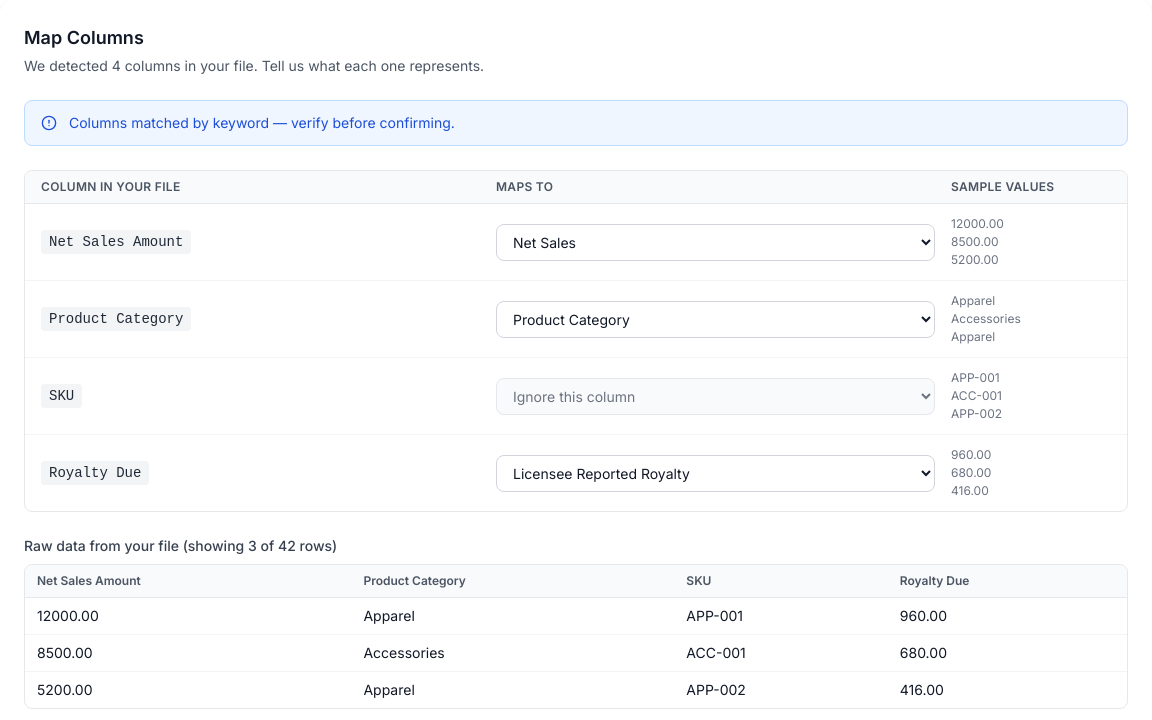
Test case: ColumnMapper component › deduplication: selecting a unique field on a 2nd column clears the 1st column
The image size is (1152, 720).
Expected: the dropdown named "Map column \"Net Sales Amount\" to Likha field" shows "Net Sales", [496, 224, 935, 260]
Note: Map SKU to net_sales — should clear Net Sales Amount back to ignore
Select "Net Sales" in the dropdown named "Map column \"SKU\" to Likha field". click: coordinates (716, 396)
box: [496, 378, 935, 414]
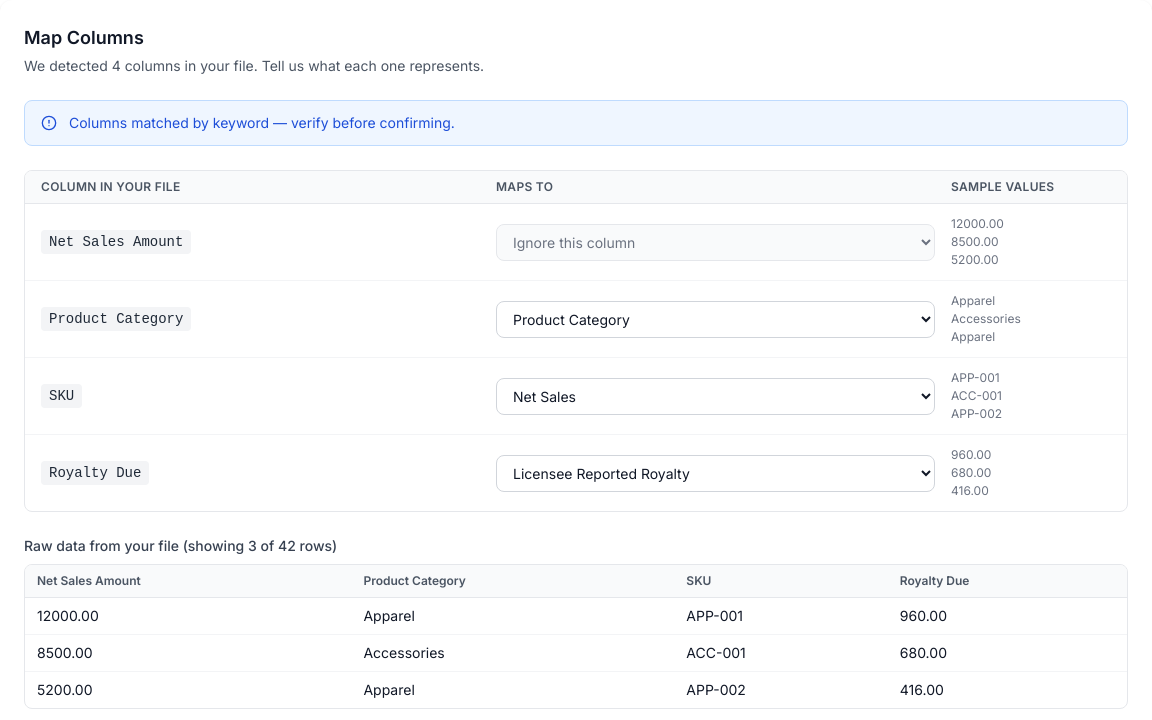
Result: the dropdown named "Map column \"Net Sales Amount\" to Likha field" shows "Ignore this column" at [496, 224, 935, 260]
